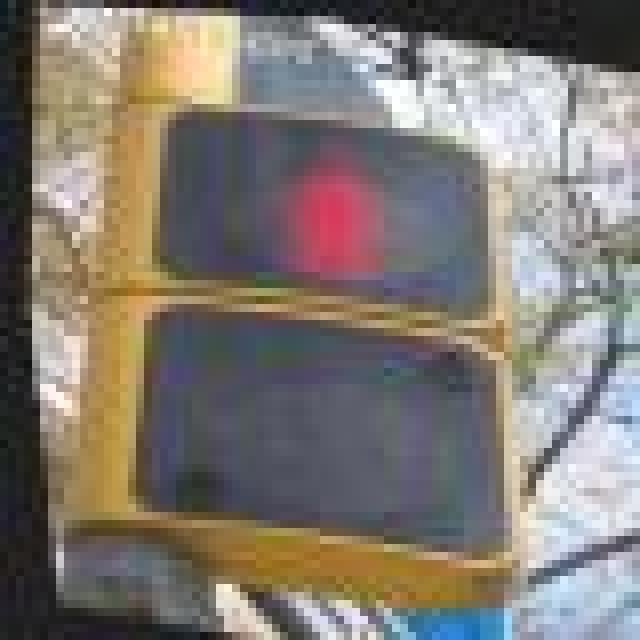redlight: (131, 95, 521, 592)
